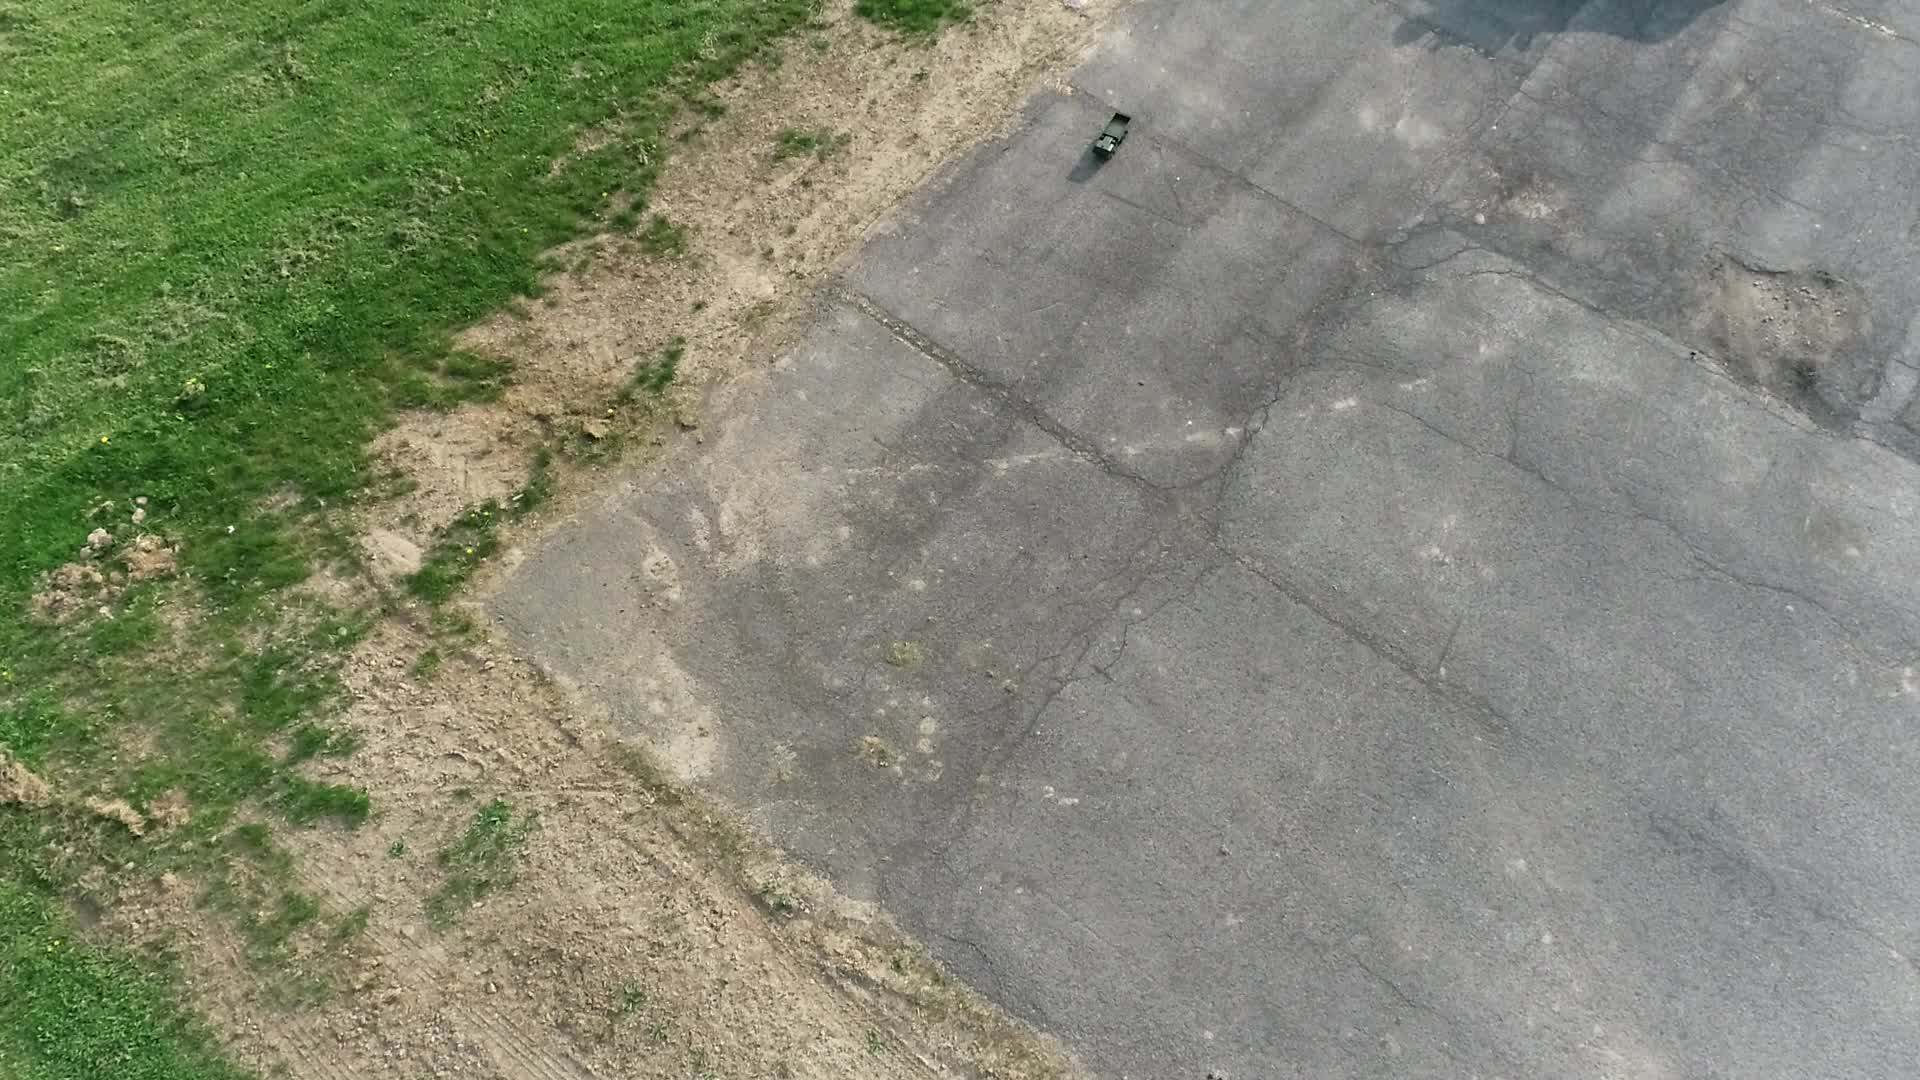transporter9: (1089, 109, 1133, 164)
